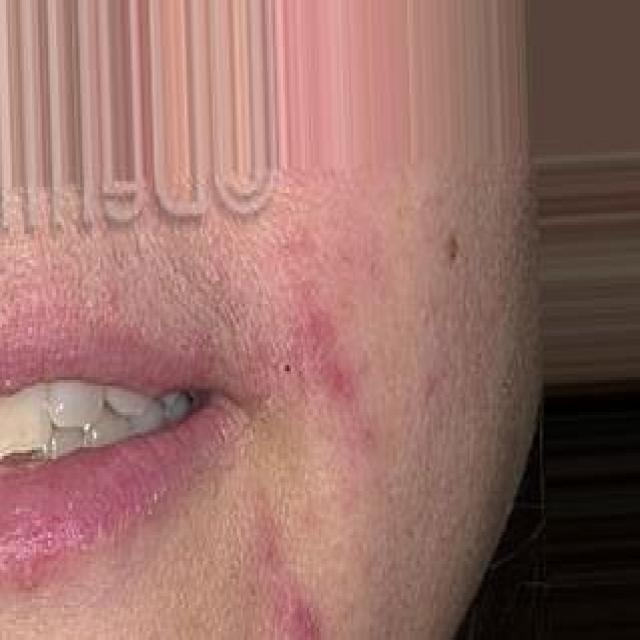Rosacea: (282, 257, 384, 466), (246, 494, 331, 640)
